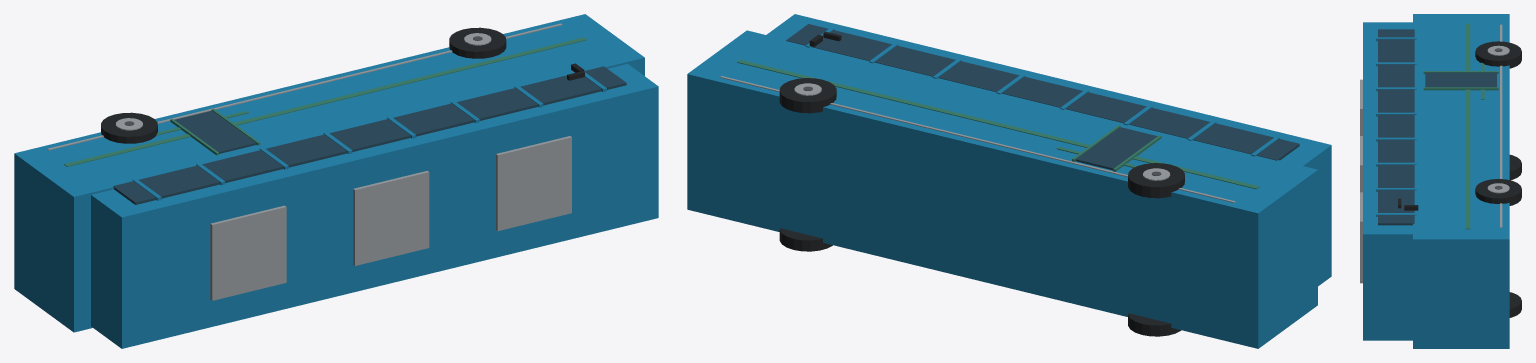
File: RM_Bus_46.glb
3 renders of one model, left to right at view 1: azimuth 30°, elevation 25°; view 2: azimuth 150°, elevation 25°; view 3: azimuth 270°, elevation 25°, orthographic. The views are drawn at different scales.
Parts seen in each view (by area): view 1: part_001, part_000, part_002, part_037, part_038, part_039, part_013, part_040, part_030, part_024, part_014; view 2: part_000, part_002, part_001, part_013, part_040, part_030, part_024, part_014, part_027, part_021; view 3: part_000, part_001, part_002, part_040, part_013, part_024, part_030, part_014, part_042, part_027, part_021, part_039 (+5 smaller).
Part boxes in pixels (x1,y1,x2,y2): part_001: [91, 64, 658, 348]; part_000: [14, 14, 644, 332]; part_002: [113, 66, 626, 204]; part_037: [210, 205, 286, 300]; part_038: [353, 170, 429, 265]; part_039: [496, 136, 571, 230]; part_013: [64, 37, 586, 166]; part_040: [174, 110, 256, 153]; part_030: [449, 27, 506, 58]; part_024: [101, 112, 157, 143]; part_014: [47, 23, 562, 150]; part_000: [687, 30, 1317, 348]; part_002: [786, 24, 1299, 160]; part_001: [766, 14, 1331, 286]; part_013: [737, 59, 1259, 189]; part_040: [1075, 127, 1157, 170]; part_030: [779, 78, 836, 113]; part_024: [1128, 163, 1184, 198]; part_014: [720, 76, 1235, 202]; part_027: [779, 228, 832, 251]; part_021: [1128, 313, 1181, 336]; part_000: [1413, 14, 1509, 348]; part_001: [1363, 22, 1412, 340]; part_002: [1378, 29, 1414, 225]; part_040: [1425, 72, 1496, 87]; part_013: [1465, 23, 1470, 229]; part_024: [1475, 41, 1521, 68]; part_030: [1475, 179, 1521, 205]; part_014: [1500, 24, 1502, 227]; part_042: [1423, 87, 1498, 90]; part_027: [1509, 292, 1521, 317]; part_021: [1509, 154, 1521, 180]; part_039: [1360, 192, 1362, 283].
Bounding box in the file's own units: 10.8 × 2.77 × 3.28.
